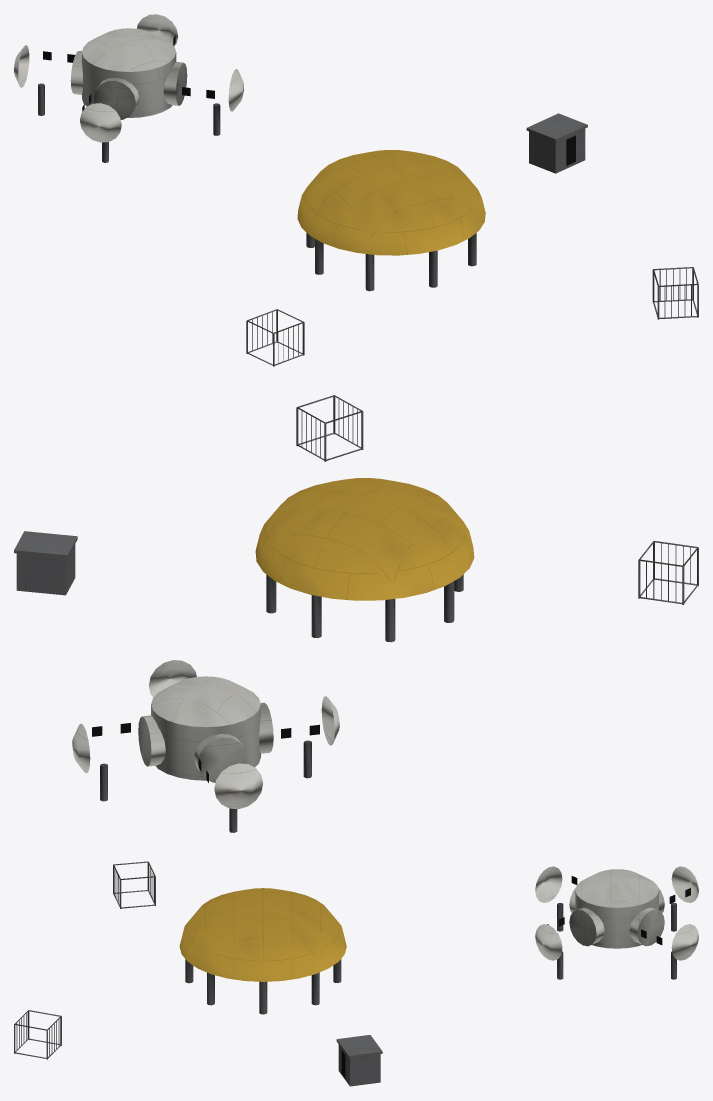
The model's file is model_built.glb.
The picture shows the model from 3 angles, top to bottom: view 1: azimuth 30°, elevation 25°; view 2: azimuth 150°, elevation 25°; view 3: azimuth 270°, elevation 25°; orthographic projection. The views are drawn at different scales.
Visible parts, largest first — view 1: main; view 2: main; view 3: main.
Boxes of the visible parts, x1,y1,x2,y2 form: main: (14,14,698,366); main: (14,395,698,832); main: (14,861,698,1086).
Bounding box in the file's own units: 28.91 × 5.5 × 42.58.
1 material, 1 textured.
